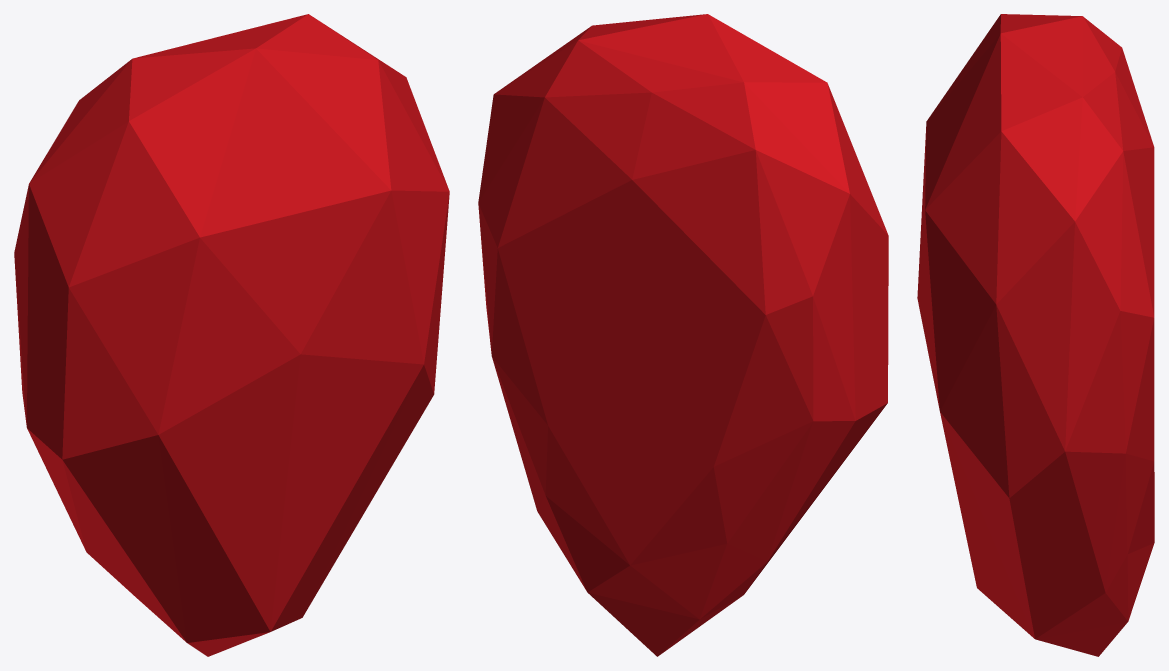
File: GemStone_2.fbx
3 renders of one model, left to right at view 1: azimuth 30°, elevation 25°; view 2: azimuth 150°, elevation 25°; view 3: azimuth 270°, elevation 25°, orthographic. The views are drawn at different scales.
Visible parts, largest first — view 1: GemStone_2; view 2: GemStone_2; view 3: GemStone_2.
Part boxes in pixels (left/top/right/bottom): GemStone_2: left=14, top=14, right=449, bottom=656; GemStone_2: left=478, top=14, right=888, bottom=656; GemStone_2: left=917, top=14, right=1154, bottom=656.
Bounding box in the file's own units: 139 × 217 × 74.96.
